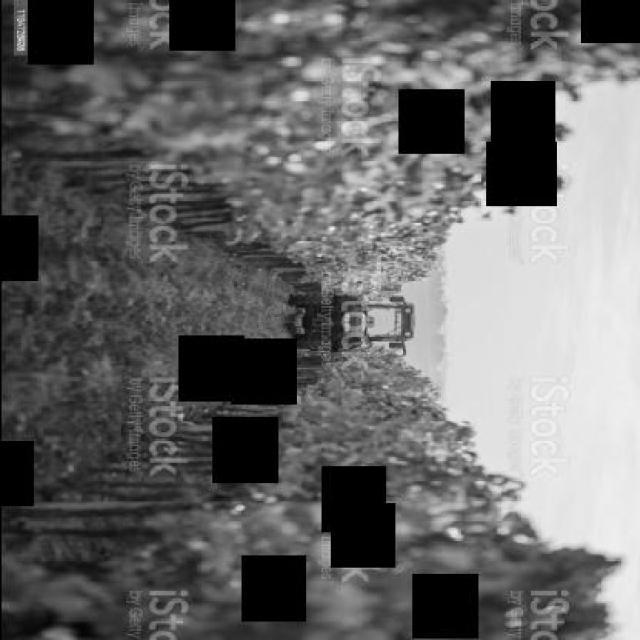Tratores - v5 YOLO V8L 2024-11-13: (274, 283, 452, 360)
